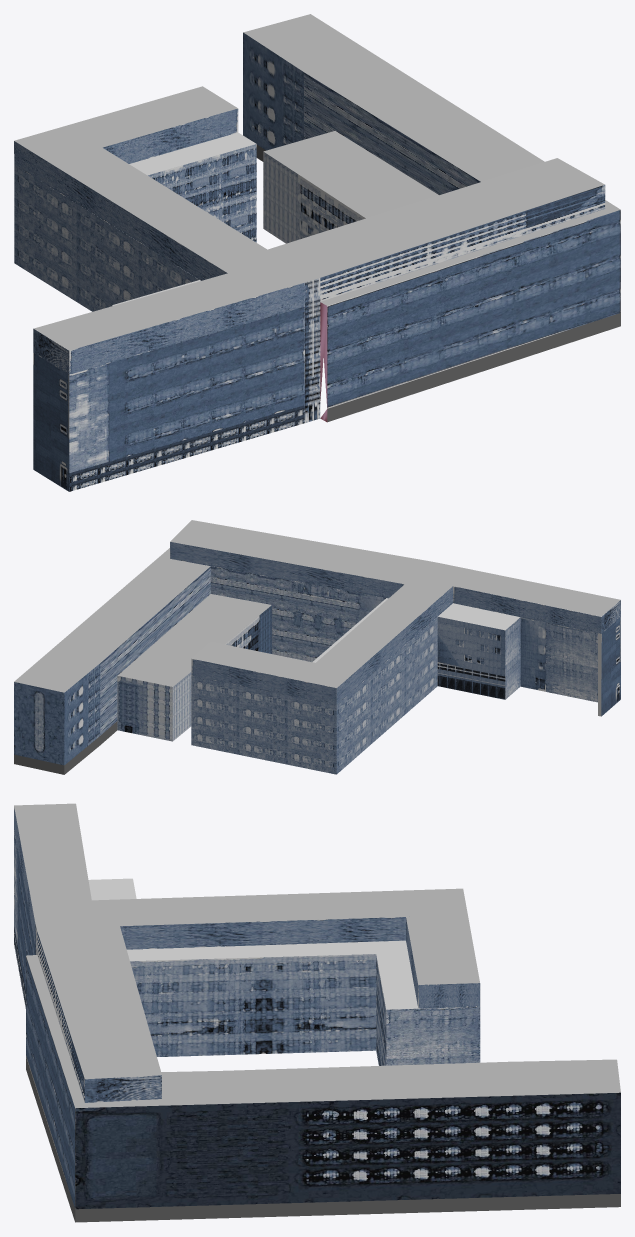
File: Chemie.gltf
The picture shows the model from 3 angles, top to bottom: view 1: azimuth 30°, elevation 25°; view 2: azimuth 150°, elevation 25°; view 3: azimuth 270°, elevation 25°; orthographic projection. The views are drawn at different scales.
Visible parts, largest first — view 1: Chemie1.1; view 2: Chemie1.1; view 3: Chemie1.1.
Part boxes in pixels (x1,y1,x2,y2): Chemie1.1: (14, 14, 620, 491); Chemie1.1: (14, 520, 620, 774); Chemie1.1: (14, 803, 620, 1222).
Size of the model in its own units: 119 by 27.29 by 108.
Materials: 26 (21 with a texture image).
